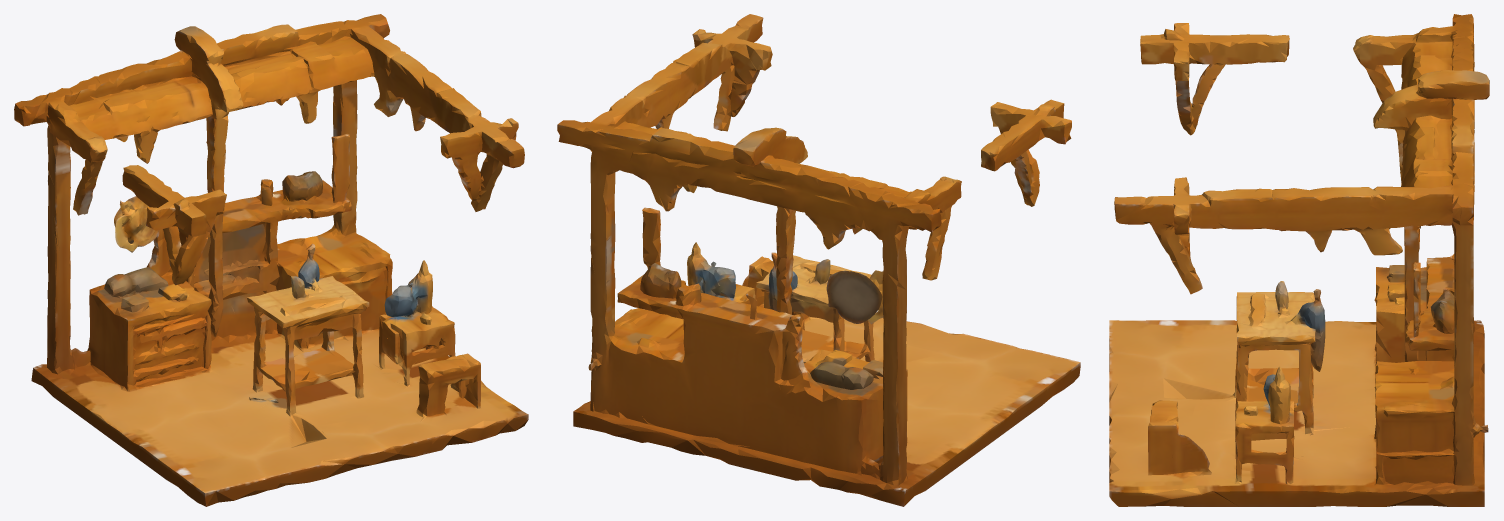
Rendered from workshop.glb.
3 renders of one model, left to right at view 1: azimuth 30°, elevation 25°; view 2: azimuth 150°, elevation 25°; view 3: azimuth 270°, elevation 25°, orthographic. The views are drawn at different scales.
Visible parts, largest first — view 1: Workshop; view 2: Workshop; view 3: Workshop.
Part boxes in pixels (left/top/right/bottom): Workshop: left=14, top=14, right=528, bottom=506; Workshop: left=557, top=14, right=1080, bottom=506; Workshop: left=1109, top=14, right=1489, bottom=506.
Size of the model in its own units: 1.89 by 1.56 by 1.57.
Materials: 1 (1 with a texture image).
